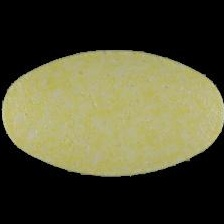54868-3826: (0, 0, 224, 224)
